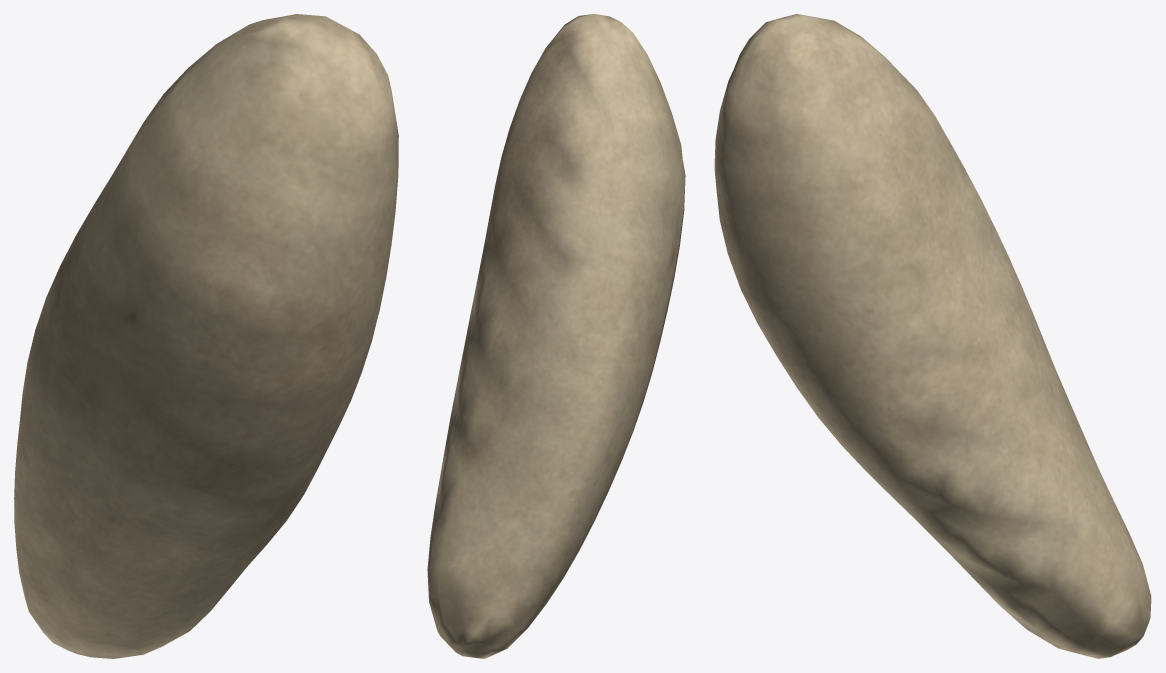
The model's file is Upper_Canine1.glb.
3 renders of one model, left to right at view 1: azimuth 30°, elevation 25°; view 2: azimuth 150°, elevation 25°; view 3: azimuth 270°, elevation 25°, orthographic. The views are drawn at different scales.
Visible parts, largest first — view 1: Upper_Canine1.glb; view 2: Upper_Canine1.glb; view 3: Upper_Canine1.glb.
Part boxes in pixels (x1,y1,x2,y2): Upper_Canine1.glb: (14,14,398,658); Upper_Canine1.glb: (427,14,685,658); Upper_Canine1.glb: (714,14,1151,658).
Size of the model in its own units: 0.00711 by 0.02 by 0.0124.
1 material, 1 textured.
